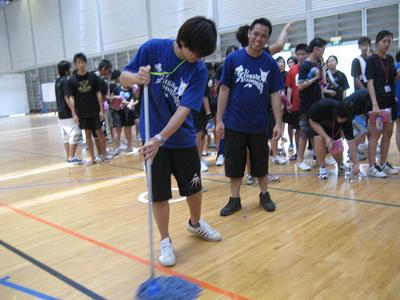person: (119, 17, 223, 270)
